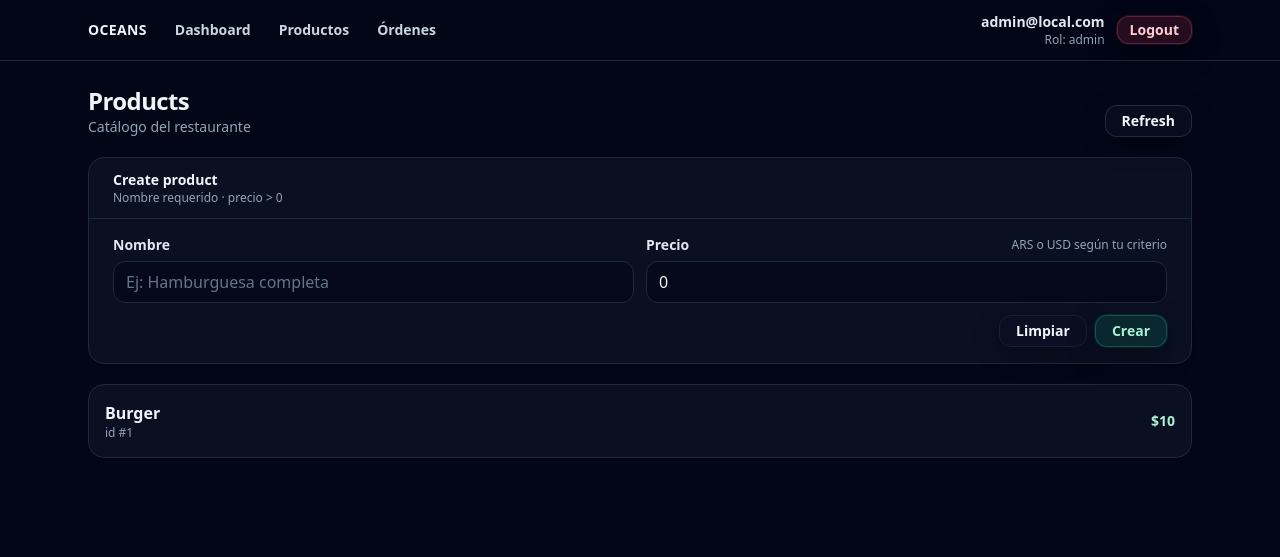
Test case: Products integration › admin: ve formulario, crea producto (POST /products) y recarga lista
Expected: the heading "Products" is shown, [88,84,189,117]
Expected: the text "Create product" is shown, [113,170,218,189]
Step 1. Type "Milanesa" into the field with placeholder "Ej: Hamburguesa completa" → (374, 282), box [113,261,634,303]
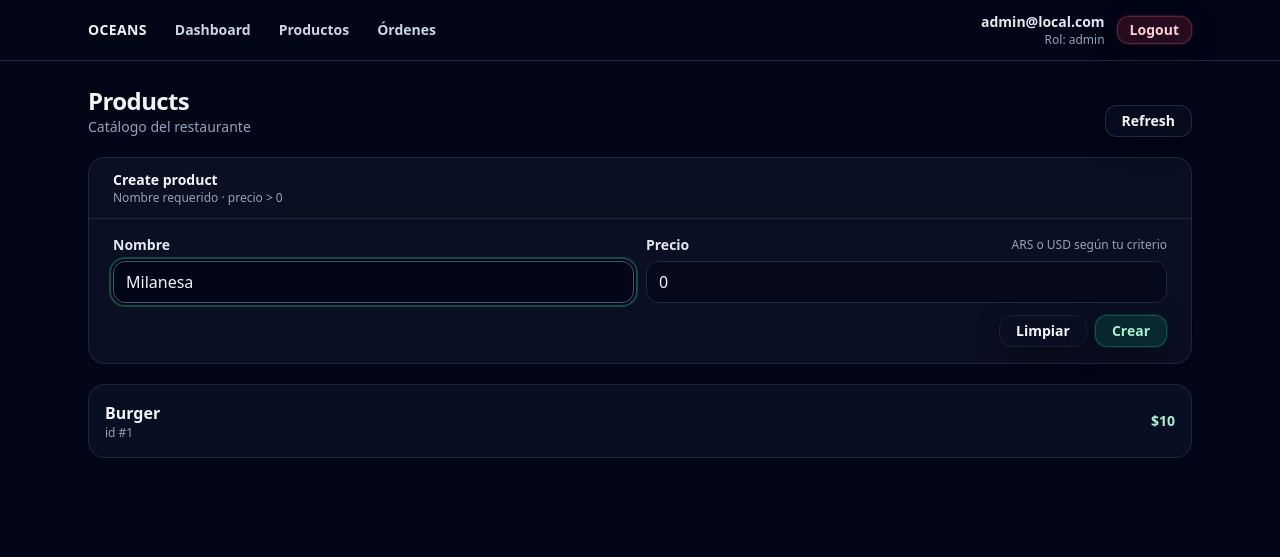
Step 2. Replace the text in the number field with placeholder "Ej: 12.50" with "25" → (906, 282), box [646,261,1167,303]
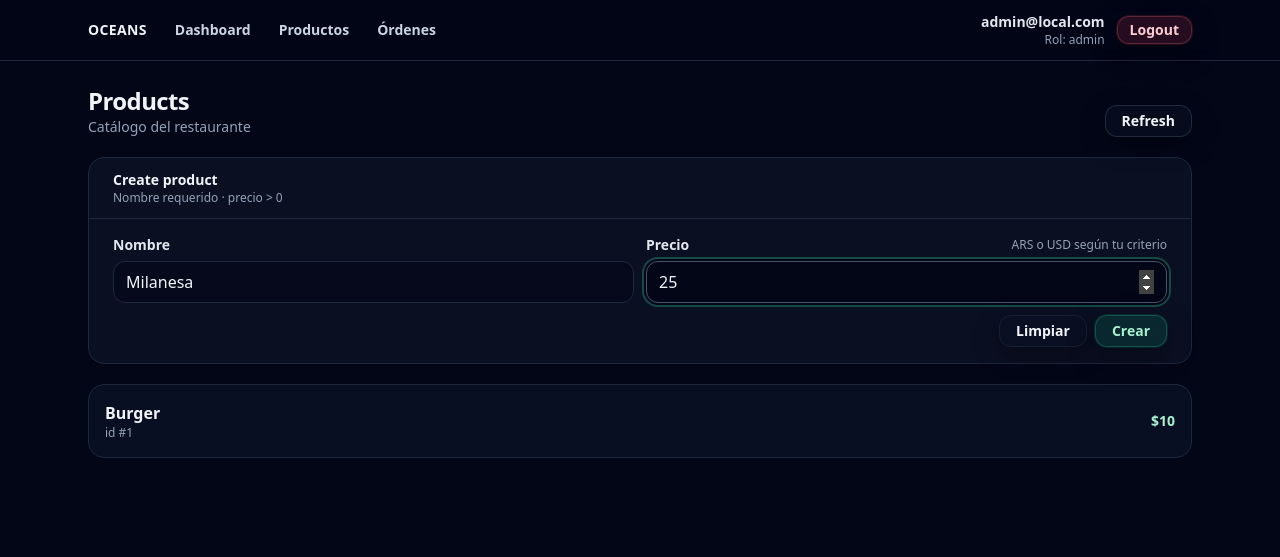
Step 3. Click the button "Crear" → (1131, 331), box [1095,315,1167,347]
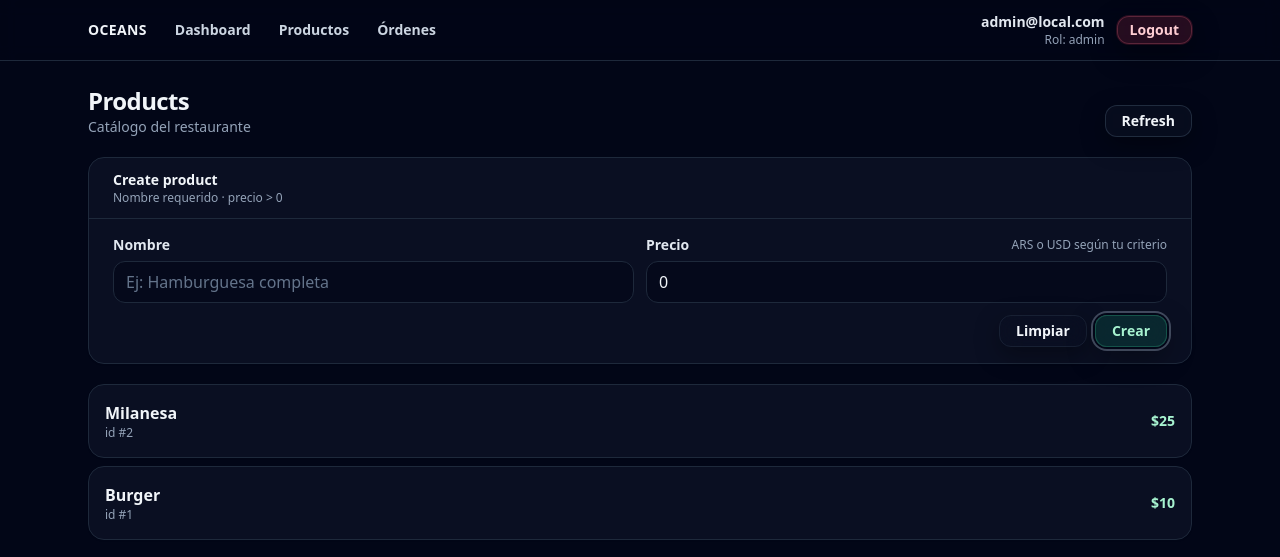
Now the text "Milanesa" is shown, box [105,401,177,425]
